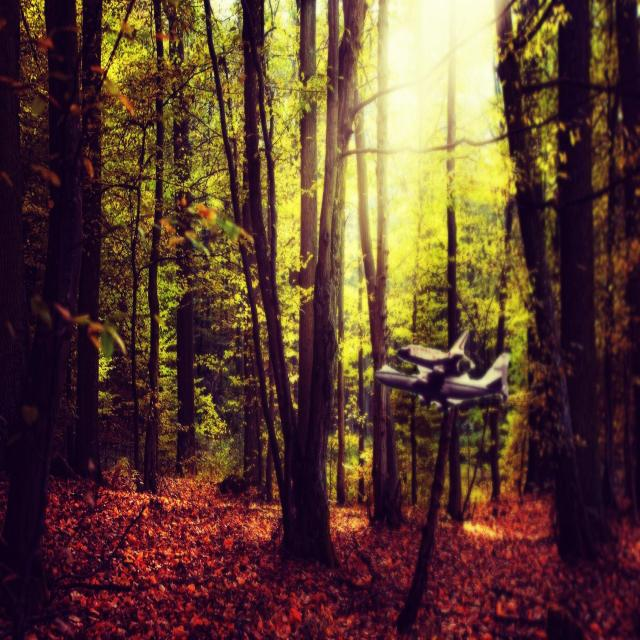airplane: (374, 328, 511, 412)
